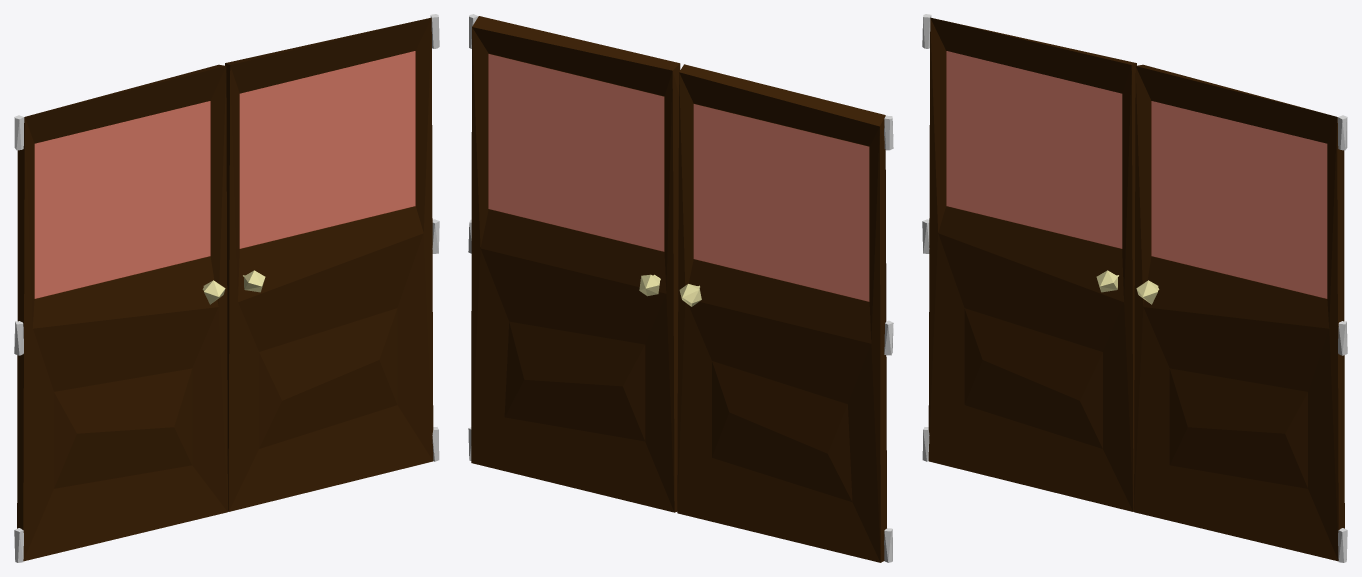
File: porte_double.fbx
3 views of the same model, side by side, from view 1: azimuth 30°, elevation 25°; view 2: azimuth 150°, elevation 25°; view 3: azimuth 330°, elevation 25° (orthographic).
Parts seen in each view (by area): view 1: Cylinder.019, Cylinder.038; view 2: Cylinder.019, Cylinder.038; view 3: Cylinder.038, Cylinder.019.
Boxes of the visible parts, x1,y1,x2,y2 form: Cylinder.019: [14, 64, 227, 562]; Cylinder.038: [225, 14, 439, 511]; Cylinder.019: [677, 64, 893, 562]; Cylinder.038: [468, 14, 680, 512]; Cylinder.038: [1134, 64, 1347, 562]; Cylinder.019: [922, 14, 1136, 511].
Size of the model in its own units: 200 by 201 by 24.94.
